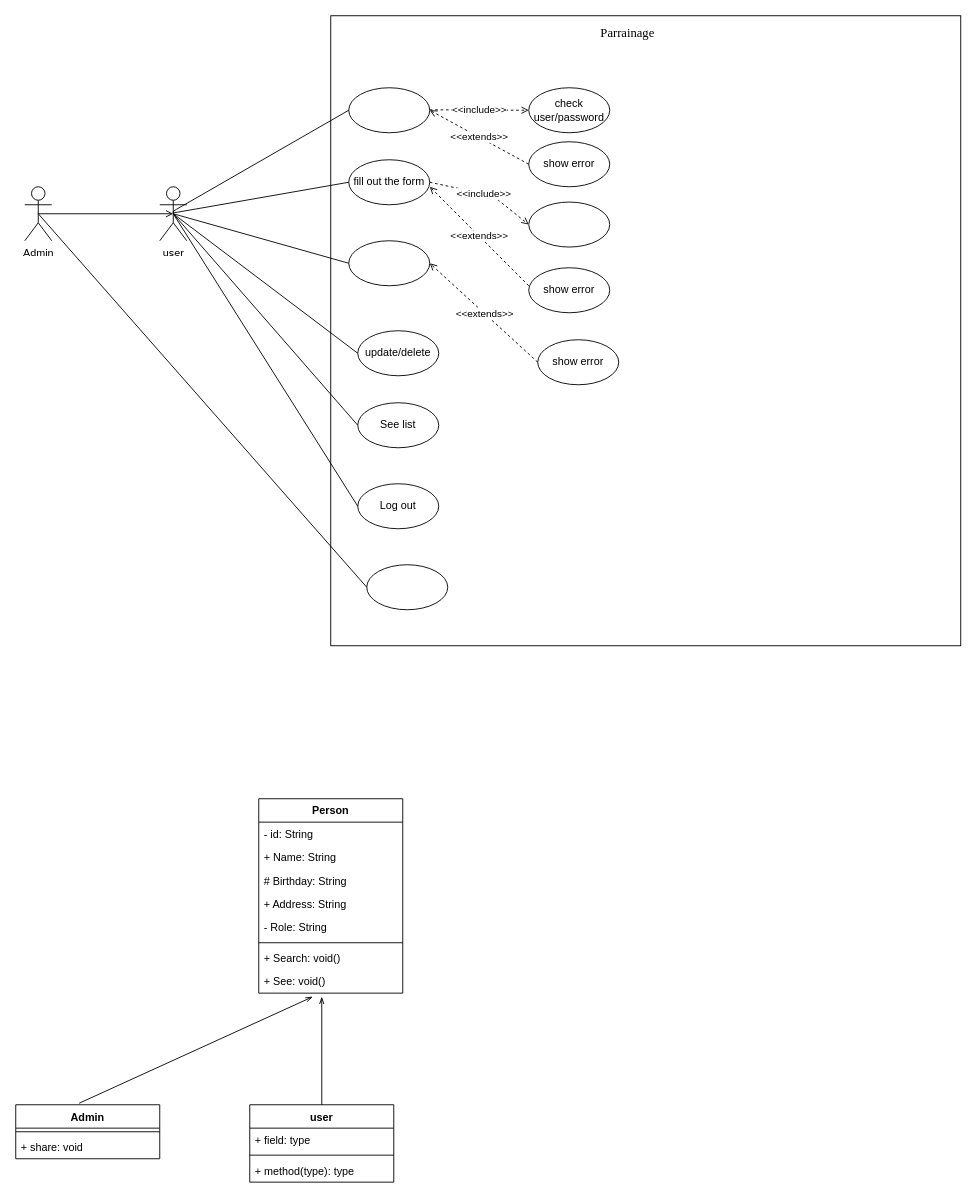
The diagram is 977 pixels wide and 1201 high, and some of its shapes have lost their labels. The shapes that lost their labels are listed below. From the top down, each one's centre as x and y in pixels, then its label:
point (389, 110): Log in
point (569, 224): check form
point (389, 263): Search
point (407, 587): share on fb
